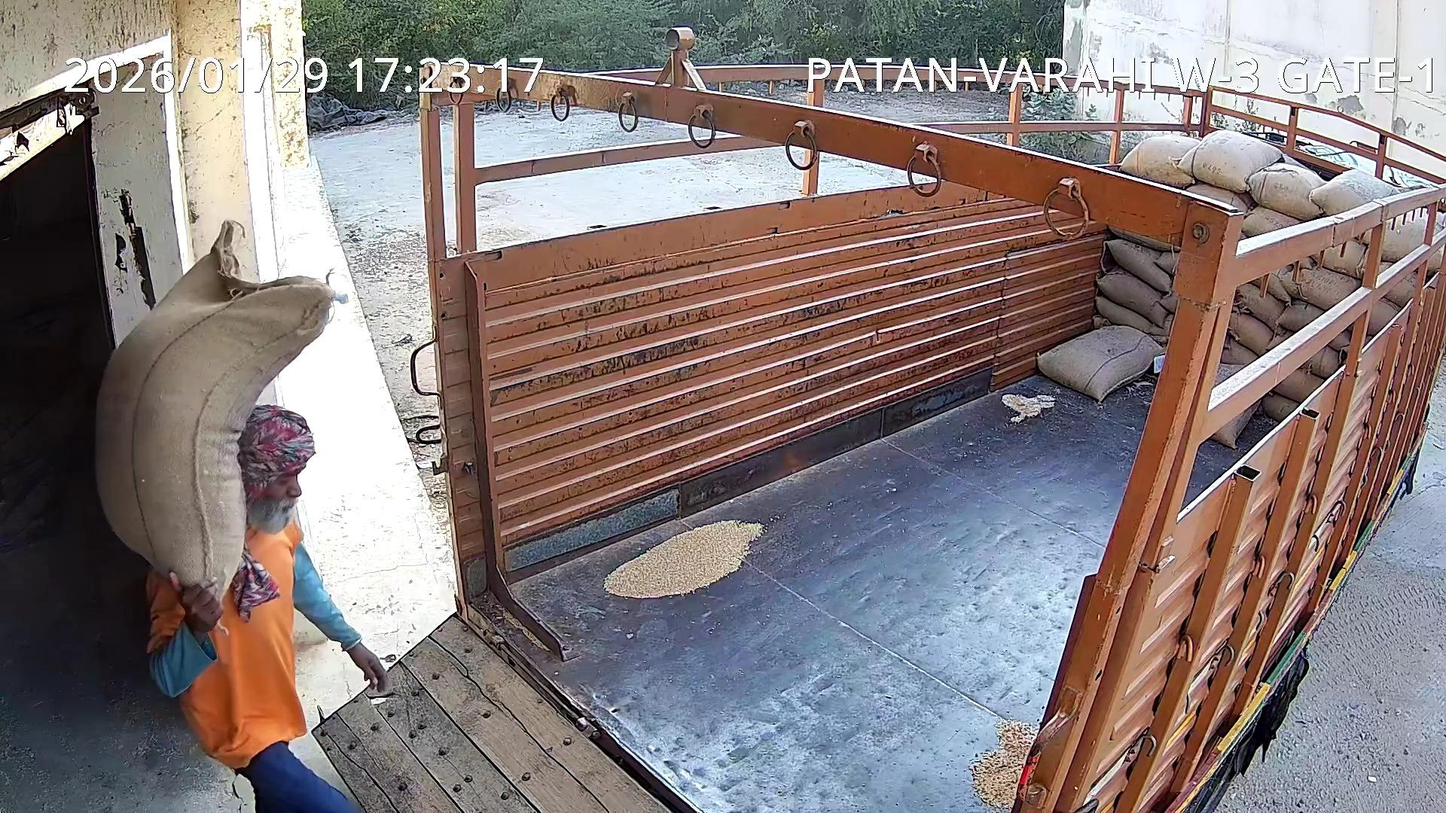Sack: (95, 221, 334, 581)
